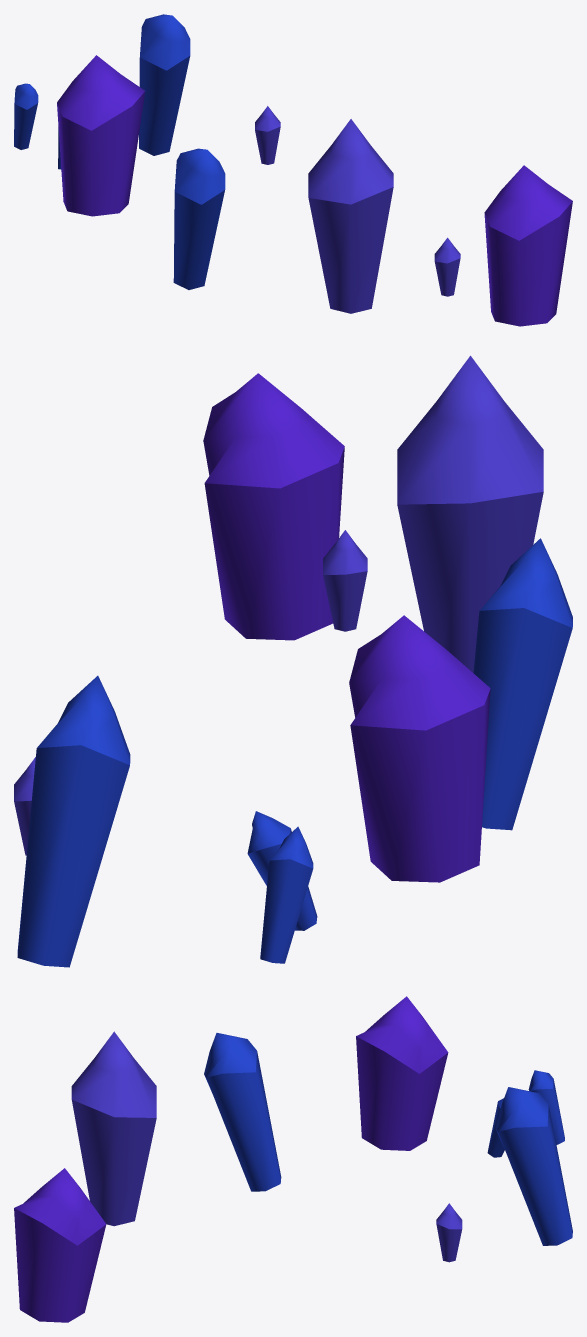
The model's file is crystal_cluster2.obj.
The picture shows the model from 3 angles, top to bottom: view 1: azimuth 30°, elevation 25°; view 2: azimuth 150°, elevation 25°; view 3: azimuth 270°, elevation 25°; orthographic projection. The views are drawn at different scales.
Parts seen in each view (by area): view 1: Cylinder001, Cylinder003.001, Cylinder003, Cylinder002, Cylinder002.001, Cylinder002.002, Cylinder001.002, Cylinder001.001; view 2: Cylinder003.001, Cylinder003, Cylinder001, Cylinder002.001, Cylinder002, Cylinder002.002, Cylinder001.002, Cylinder002.003, Cylinder001.001; view 3: Cylinder001, Cylinder003, Cylinder003.001, Cylinder002, Cylinder002.001, Cylinder001.001, Cylinder002.002, Cylinder002.003.
Part boxes in pixels (box(x1,y1,x2,y2)): Cylinder001: box(308, 119, 393, 313); Cylinder003.001: box(57, 55, 145, 216); Cylinder003: box(484, 165, 572, 326); Cylinder002: box(173, 148, 225, 289); Cylinder002.001: box(139, 14, 190, 155); Cylinder002.002: box(14, 83, 38, 149); Cylinder001.002: box(434, 237, 460, 296); Cylinder001.001: box(255, 106, 280, 164); Cylinder003.001: box(349, 615, 490, 882); Cylinder003: box(203, 373, 344, 640); Cylinder001: box(397, 355, 543, 672); Cylinder002.001: box(17, 675, 130, 967); Cylinder002: box(473, 538, 572, 830); Cylinder002.002: box(260, 826, 313, 963); Cylinder001.002: box(323, 530, 367, 631); Cylinder002.003: box(247, 811, 317, 930); Cylinder001.001: box(14, 757, 35, 855); Cylinder001: box(71, 1031, 156, 1226); Cylinder003: box(14, 1168, 106, 1322); Cylinder003.001: box(356, 996, 448, 1150); Cylinder002: box(204, 1033, 281, 1191); Cylinder002.001: box(495, 1087, 572, 1245); Cylinder001.001: box(436, 1203, 462, 1262); Cylinder002.002: box(528, 1070, 564, 1144); Cylinder002.003: box(487, 1098, 504, 1157).
Bounding box in the file's own units: 0.3659 × 0.2208 × 0.5311.
